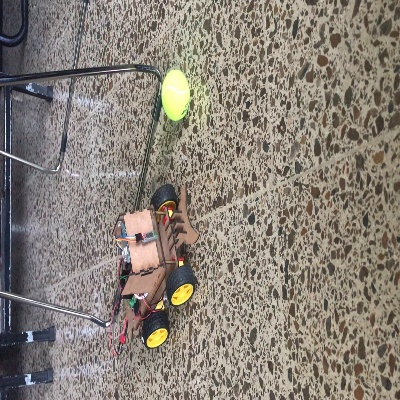Ball: (162, 70, 187, 120)
Robot: (111, 183, 198, 348)
